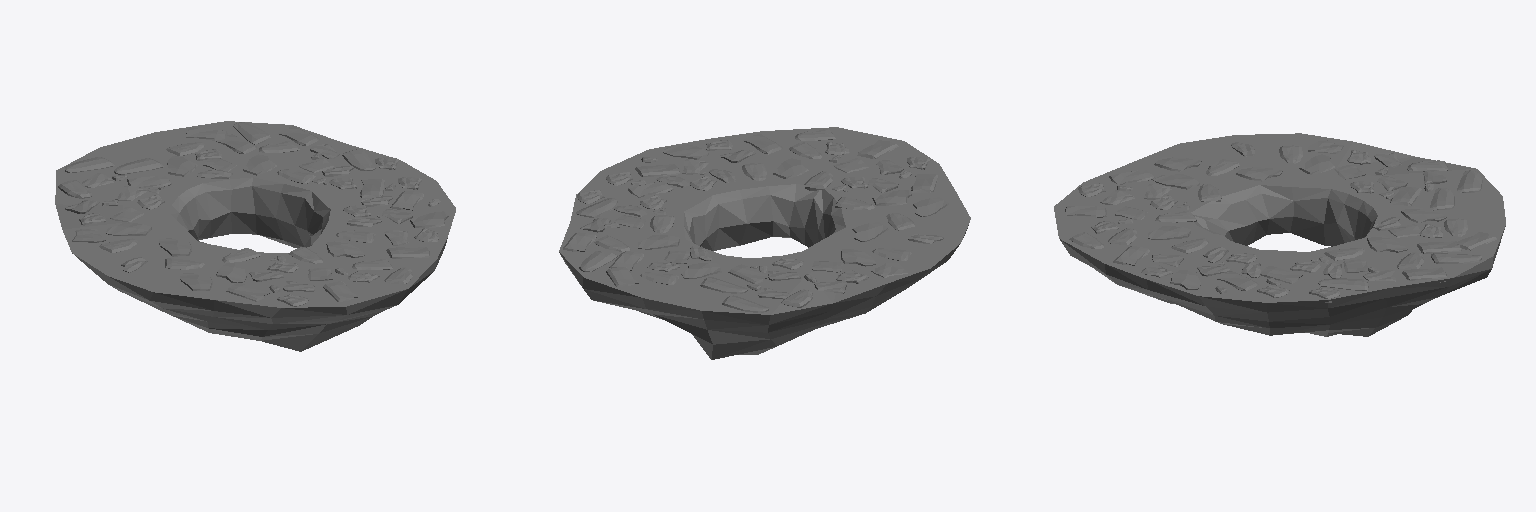
The model's file is Island_C.obj.
3 views of the same model, side by side, from view 1: azimuth 30°, elevation 25°; view 2: azimuth 150°, elevation 25°; view 3: azimuth 270°, elevation 25° (orthographic).
Parts seen in each view (by area): view 1: C_Island, C_I_Stones; view 2: C_Island, C_I_Stones; view 3: C_Island, C_I_Stones.
Part boxes in pixels (x1,y1,x2,y2): C_Island: (55,121,455,351); C_I_Stones: (58,122,448,306); C_Island: (559,127,970,359); C_I_Stones: (563,129,948,312); C_Island: (1054,133,1505,336); C_I_Stones: (1065,139,1496,302).
Bounding box in the file's own units: 19.31 × 4.34 × 21.78.